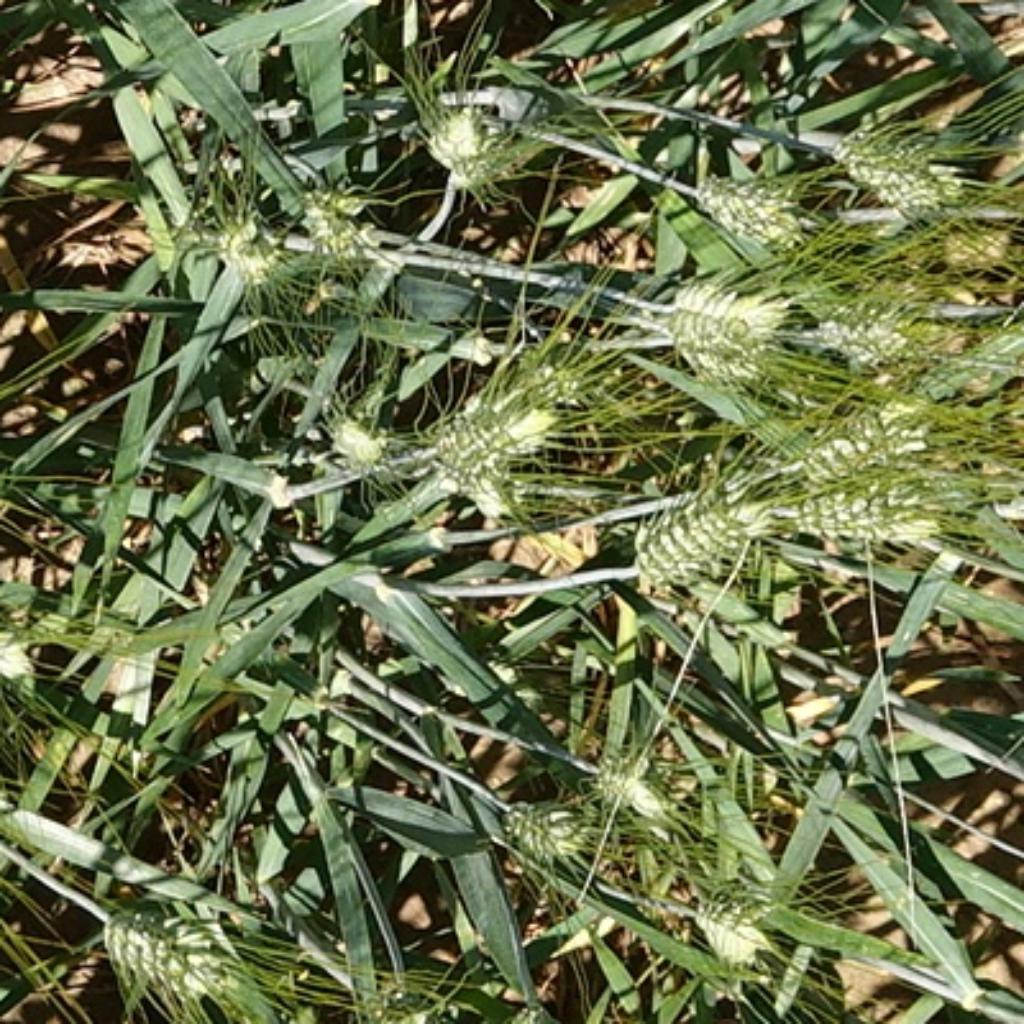0-0: (409, 358, 558, 499), (87, 896, 250, 1016), (622, 463, 770, 583), (796, 389, 962, 491), (783, 473, 993, 547), (828, 107, 963, 212), (414, 81, 537, 189), (176, 186, 296, 289), (680, 153, 814, 245), (663, 261, 801, 350), (284, 168, 389, 276), (814, 289, 947, 371), (683, 862, 775, 970), (519, 335, 632, 417), (586, 732, 683, 824), (494, 780, 593, 865), (655, 320, 773, 389), (0, 581, 56, 709), (317, 396, 391, 471)
